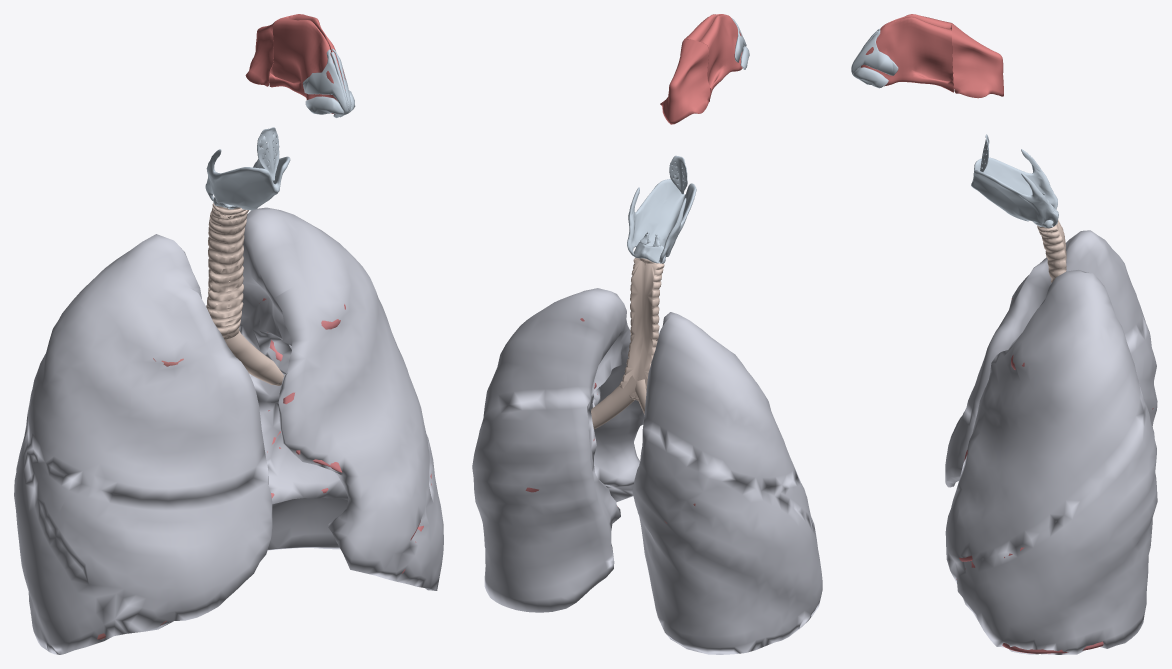
Rendered from male-respiratory.glb.
3 views of the same model, side by side, from view 1: azimuth 30°, elevation 25°; view 2: azimuth 150°, elevation 25°; view 3: azimuth 270°, elevation 25° (orthographic). The views are drawn at different scales.
Parts seen in each view (by area): view 1: Pleura, Trachea, Mucosa_of_nasal_cavity, Thyroid_cartilage, Left_main_bronchus, Nasopharynx, Lateral_process_of_nasal_septal_cartilage_R, Epiglottis; view 2: Pleura, Trachea, Thyroid_cartilage, Nasopharynx, Mucosa_of_nasal_cavity, Left_main_bronchus, Epiglottis; view 3: Pleura, Mucosa_of_nasal_cavity, Thyroid_cartilage, Nasopharynx, Trachea, Lateral_process_of_nasal_septal_cartilage_L, Major_alar_cartilage_L.
Boxes of the visible parts, x1,y1,x2,y2 form: Pleura: (14, 207, 443, 654); Trachea: (206, 203, 248, 339); Mucosa_of_nasal_cavity: (269, 14, 345, 114); Thyroid_cartilage: (205, 149, 290, 210); Left_main_bronchus: (225, 332, 283, 384); Nasopharynx: (245, 15, 291, 86); Lateral_process_of_nasal_septal_cartilage_R: (302, 49, 347, 113); Epiglottis: (257, 127, 279, 180); Pleura: (472, 288, 822, 654); Trachea: (619, 257, 664, 400); Thyroid_cartilage: (627, 179, 696, 262); Nasopharynx: (660, 39, 710, 124); Mucosa_of_nasal_cavity: (684, 14, 742, 97); Left_main_bronchus: (591, 375, 636, 429); Epiglottis: (669, 155, 687, 194); Pleura: (945, 230, 1157, 654); Mucosa_of_nasal_cavity: (861, 14, 953, 92); Thyroid_cartilage: (971, 149, 1057, 226); Nasopharynx: (951, 23, 1003, 98); Trachea: (1037, 220, 1066, 282); Lateral_process_of_nasal_septal_cartilage_L: (851, 30, 898, 75); Major_alar_cartilage_L: (853, 67, 888, 88).
Size of the model in its own units: 0.2589 by 0.4136 by 0.2031.
